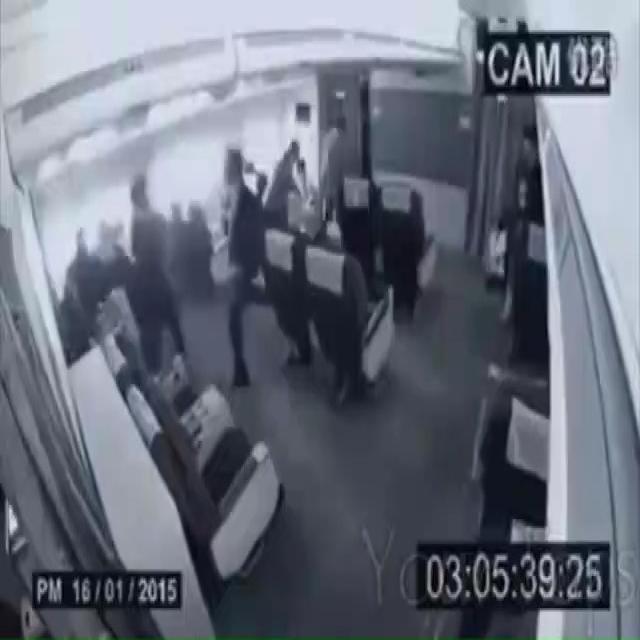fight: (225, 129, 359, 264)
